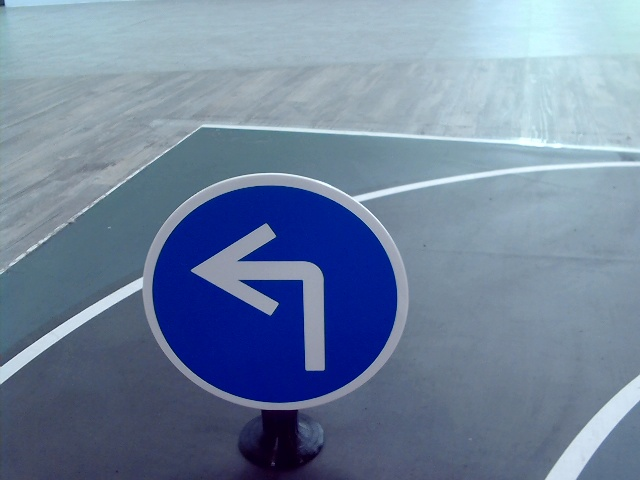turn_left: (191, 218, 342, 372)
